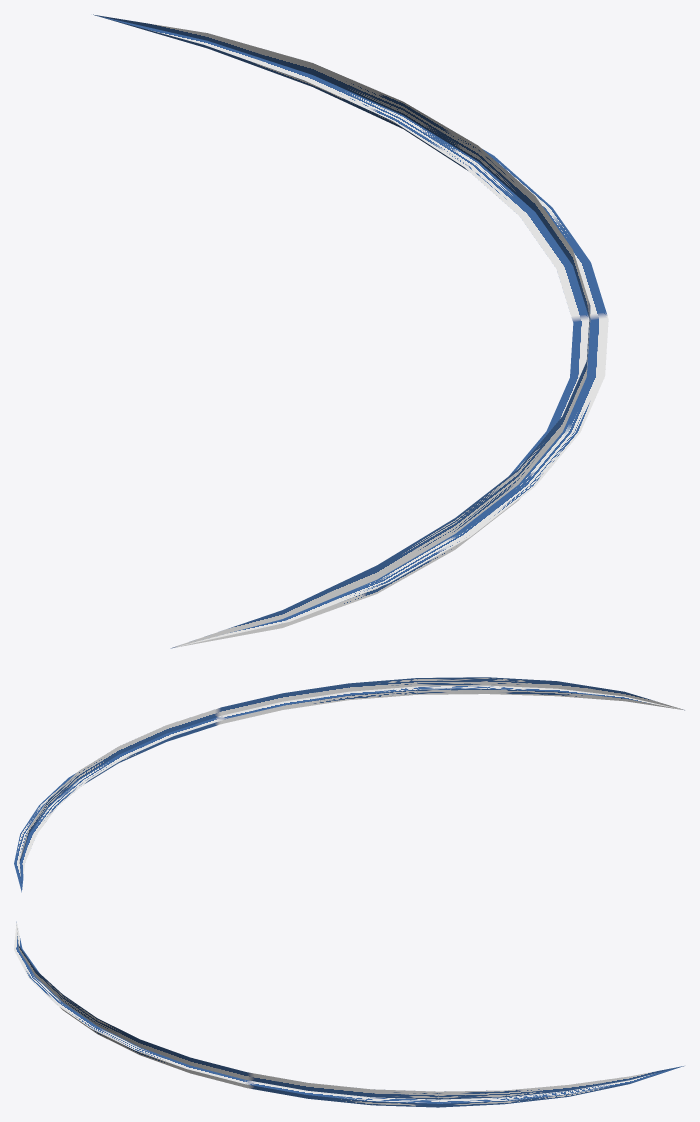
The model's file is Rui_Dome3.fbx.
3 views of the same model, one above another, from view 1: azimuth 30°, elevation 25°; view 2: azimuth 150°, elevation 25°; view 3: azimuth 270°, elevation 25° (orthographic). The views are drawn at different scales.
Visible parts, largest first — view 1: SM_e_Plc_P1007_Dome003; view 2: SM_e_Plc_P1007_Dome003; view 3: SM_e_Plc_P1007_Dome003.
Part boxes in pixels (left/top/right/bottom): SM_e_Plc_P1007_Dome003: left=93, top=14, right=608, bottom=648; SM_e_Plc_P1007_Dome003: left=14, top=677, right=684, bottom=892; SM_e_Plc_P1007_Dome003: left=14, top=921, right=683, bottom=1107.
Size of the model in its own units: 244 by 9.97 by 380.
